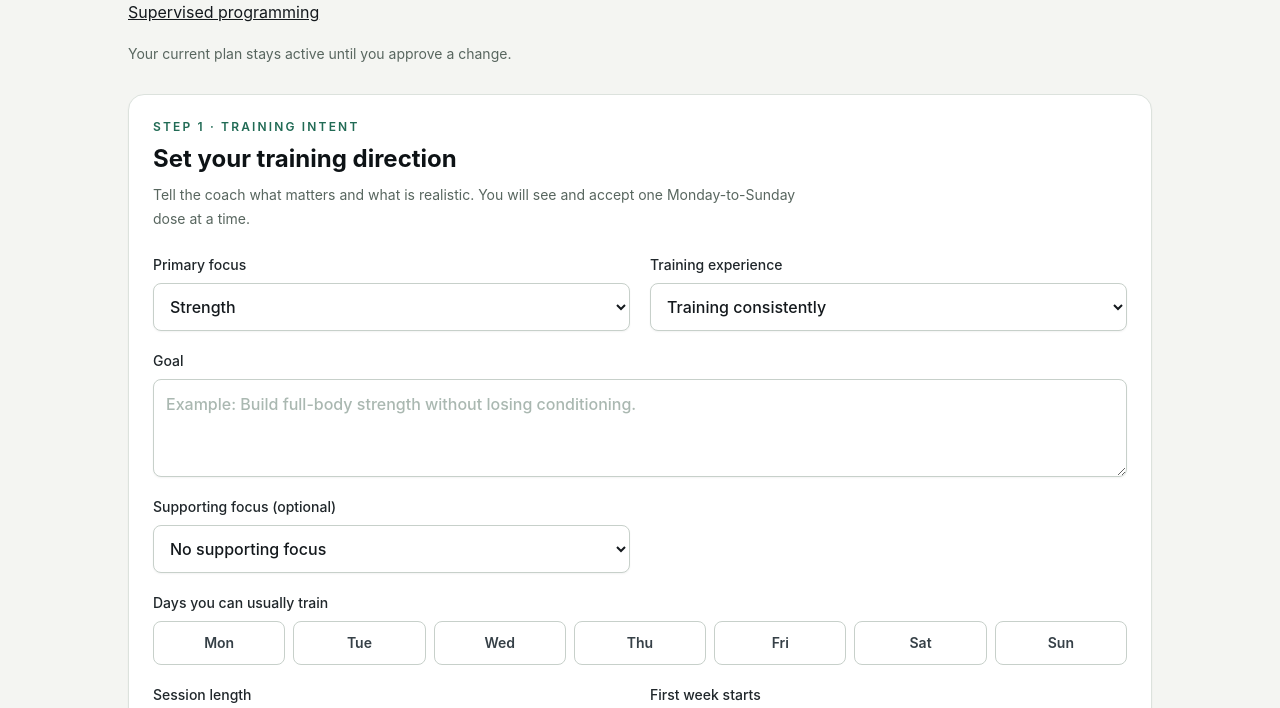
Scenario: rolling weekly Program experience › creates only a first-week proposal and keeps acceptance separate
Check: the heading "Set your training direction" is shown, box x1=153 y1=144 x2=457 y2=173
Replace the text in the text box labelled "Goal" with "Build useful full-body strength": (640, 428) x1=153 y1=379 x2=1127 y2=477
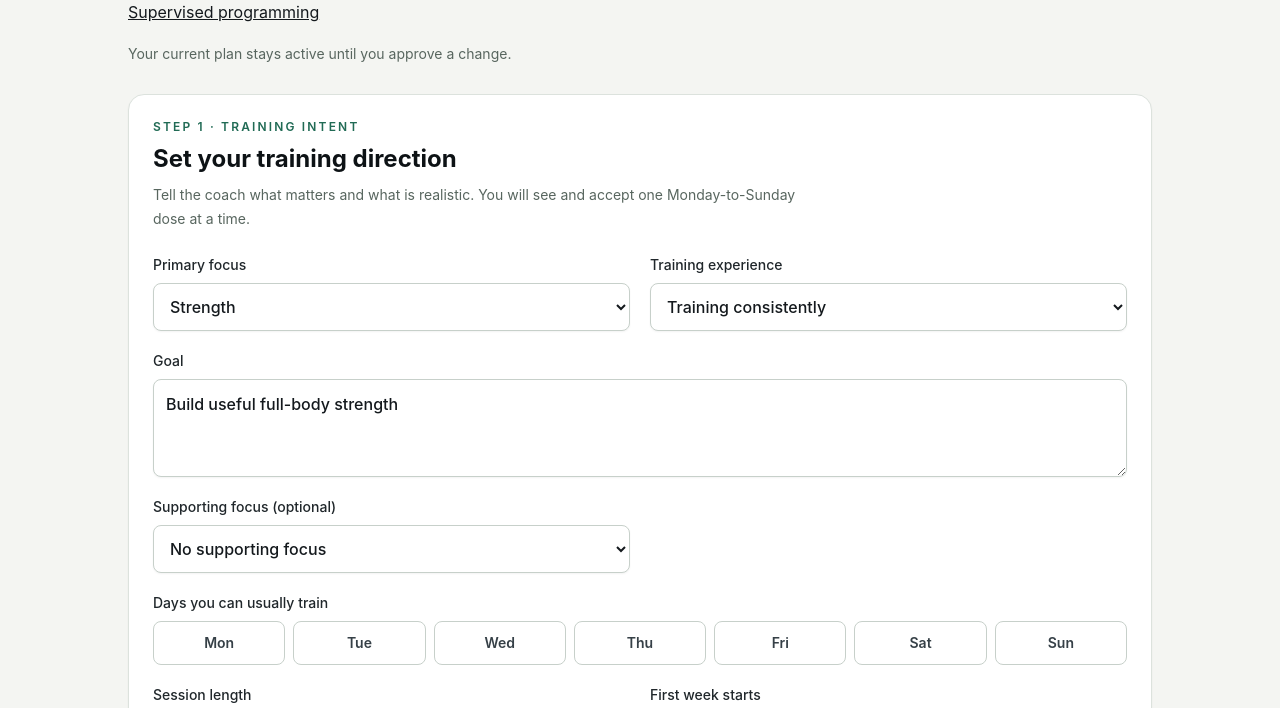
Click the checkbox named "Monday": (219, 643) x1=153 y1=621 x2=285 y2=665
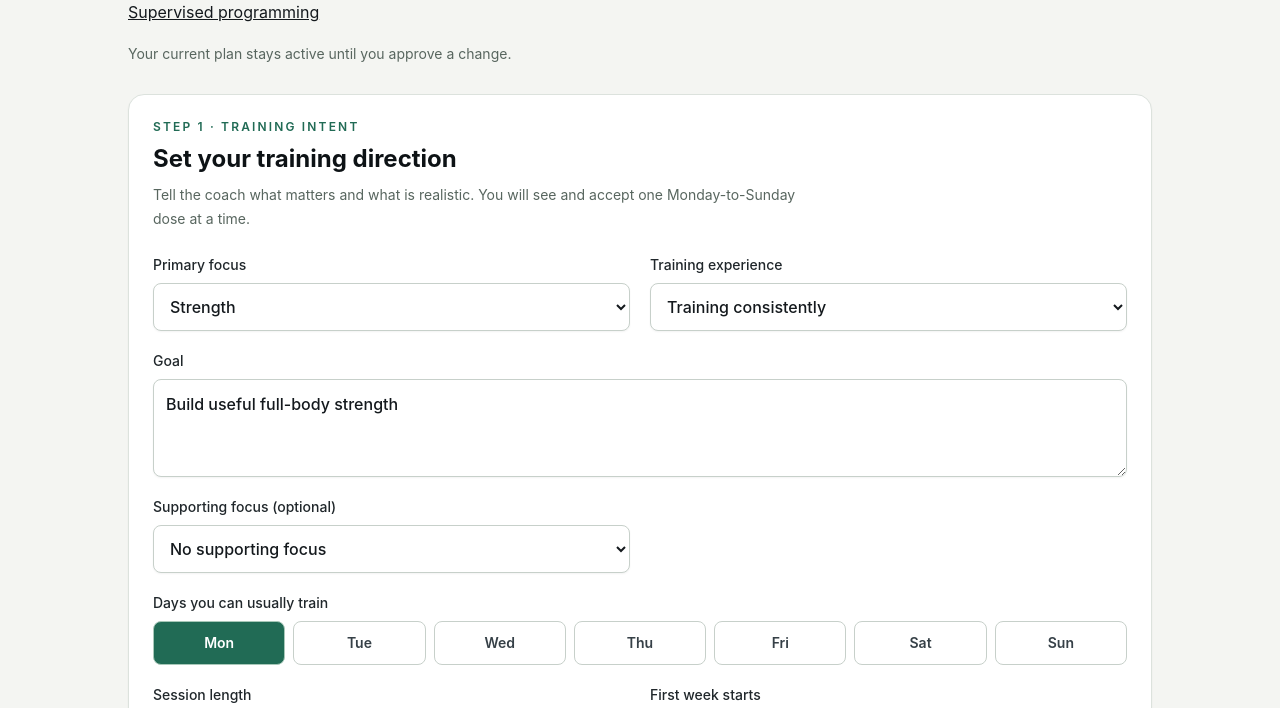
Click the checkbox named "Wednesday": (500, 643) x1=434 y1=621 x2=566 y2=665
(page scrolled)
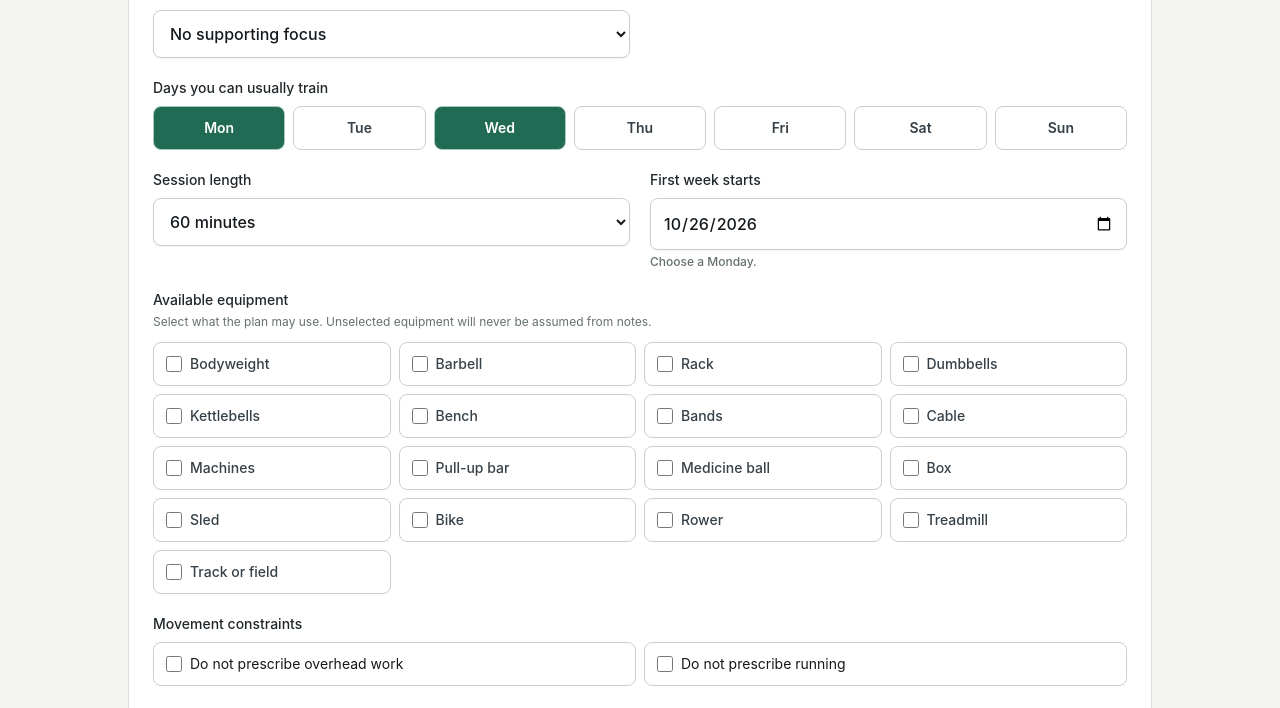
Click the checkbox labelled "Bodyweight": (174, 364) x1=166 y1=356 x2=182 y2=372
(page scrolled)
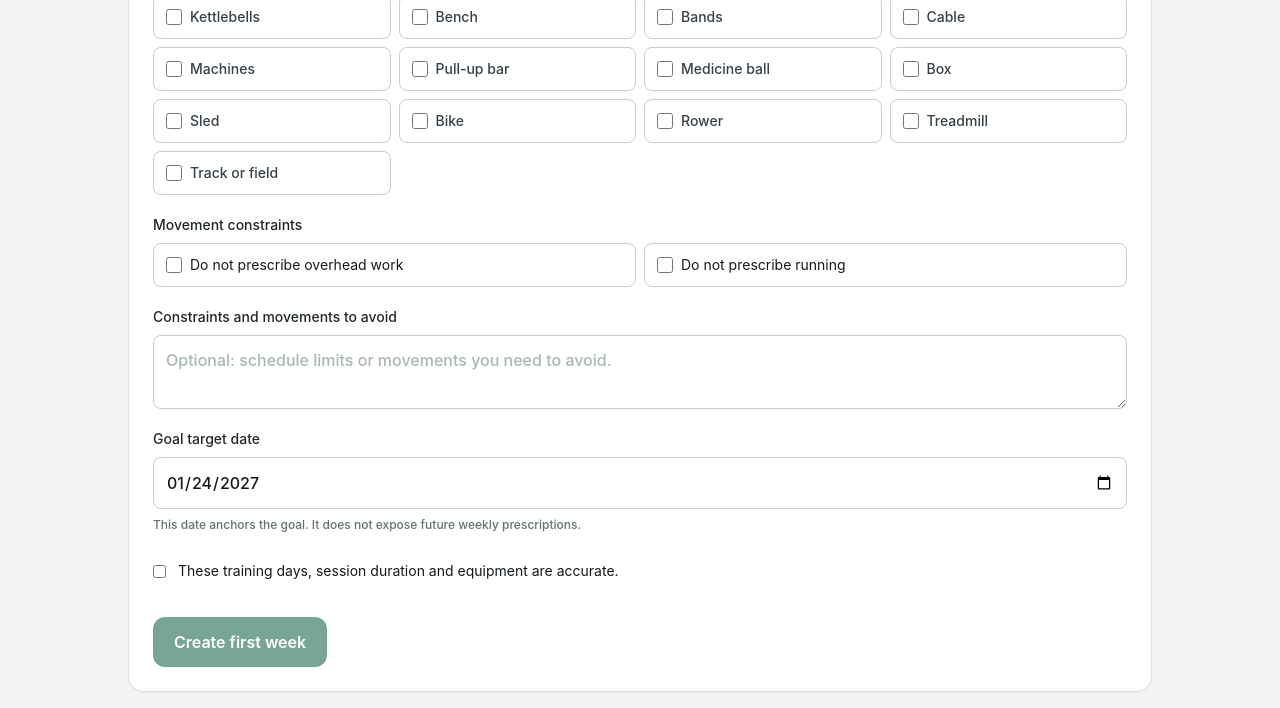
Click the checkbox labelled "These training days, session duration and equipment are accurate.": (160, 571) x1=153 y1=565 x2=166 y2=578
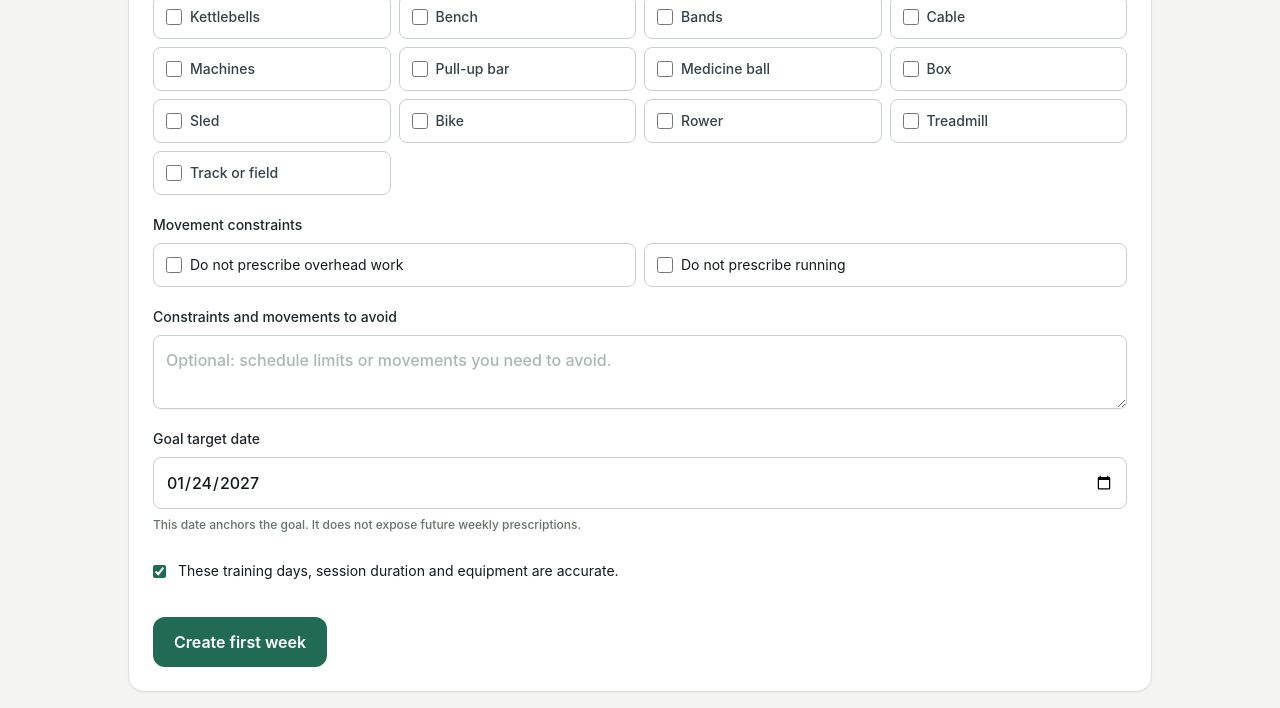
Click the button "Create first week": (240, 642) x1=153 y1=617 x2=327 y2=667
(page scrolled)
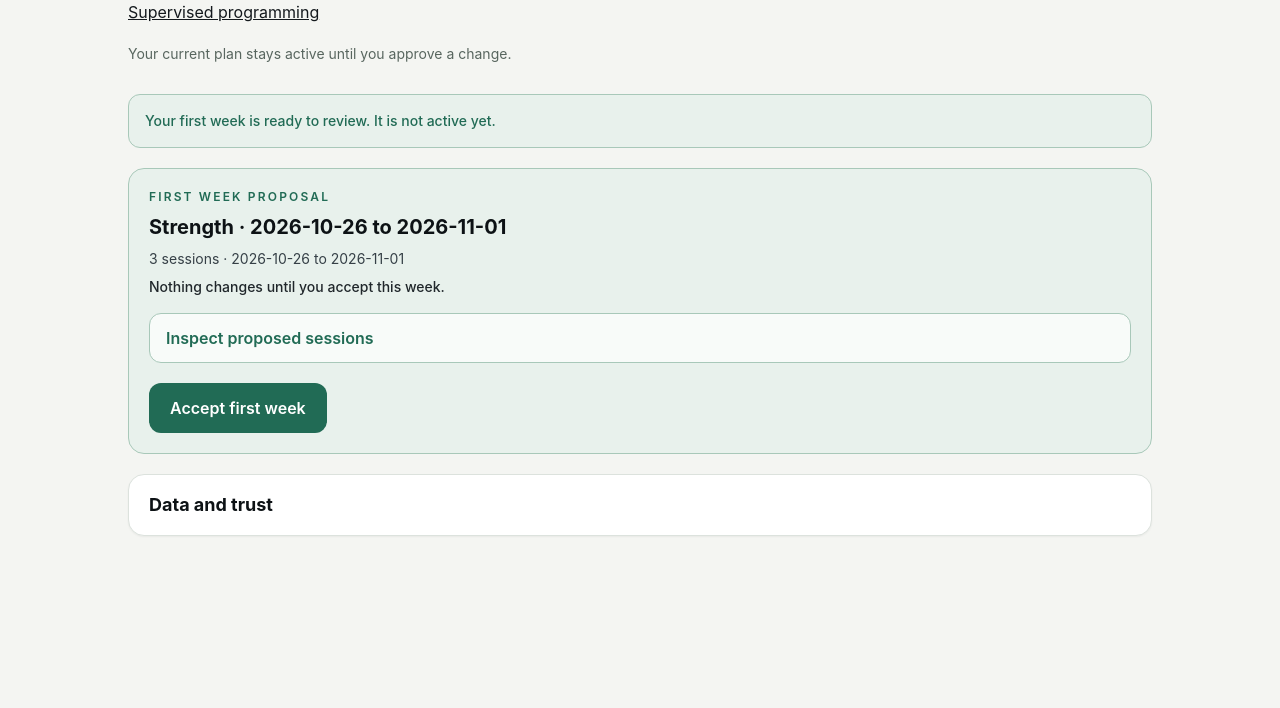
Check: the text "First week proposal" is shown, box x1=149 y1=189 x2=330 y2=204
Check: the text "Nothing changes until you accept this week." is shown, box x1=149 y1=278 x2=445 y2=295
Check: the button "Accept first week" is shown, box x1=149 y1=383 x2=327 y2=433
